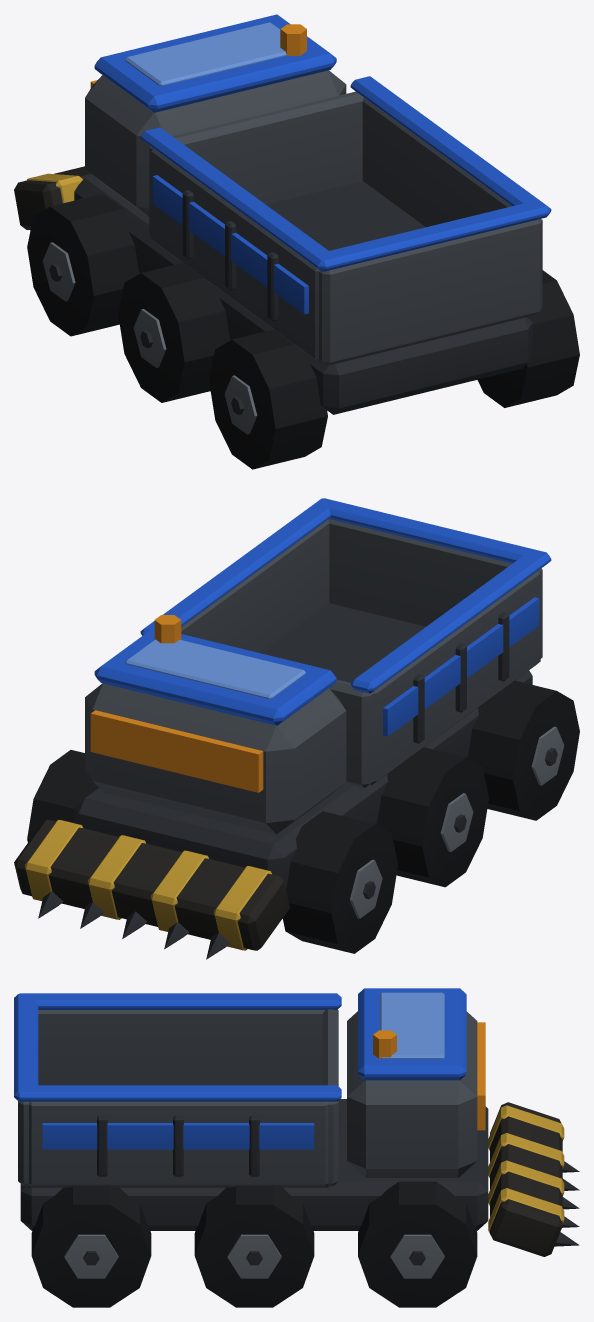
File: harvester.glb
The picture shows the model from 3 angles, top to bottom: view 1: azimuth 30°, elevation 25°; view 2: azimuth 150°, elevation 25°; view 3: azimuth 270°, elevation 25°; orthographic projection. The views are drawn at different scales.
Parts seen in each view (by area): view 1: hull; view 2: hull; view 3: hull.
Boxes of the visible parts, <box> form: hull: <box>14,14,579,469</box>; hull: <box>14,498,579,959</box>; hull: <box>14,988,579,1307</box>.
Size of the model in its own units: 0.605 by 0.4746 by 1.04.
